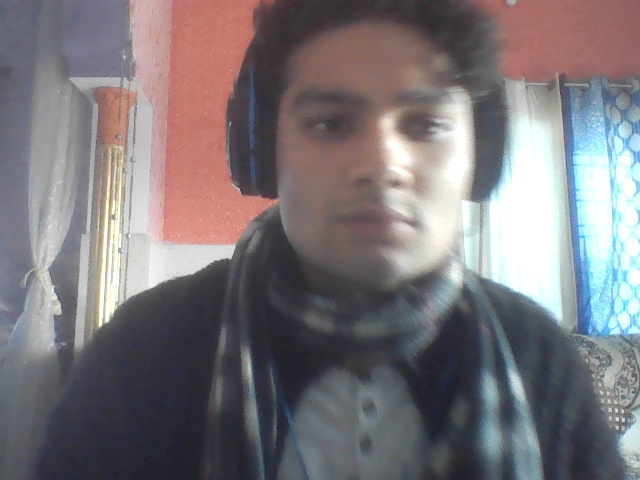real: (250, 0, 500, 355)
